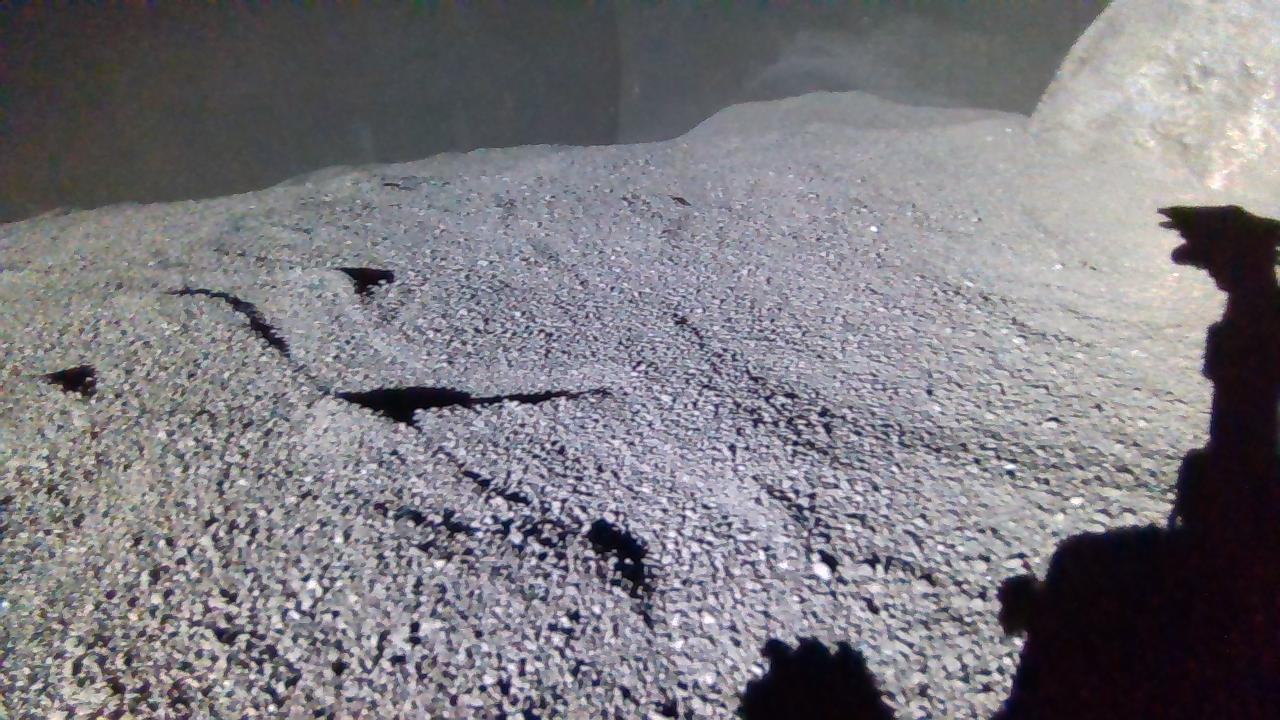rock: (1029, 0, 1279, 195)
